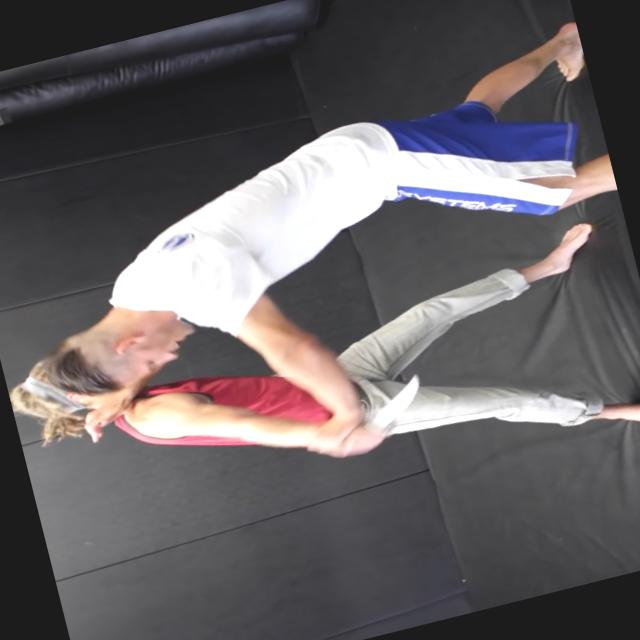knife: (332, 366, 444, 458)
